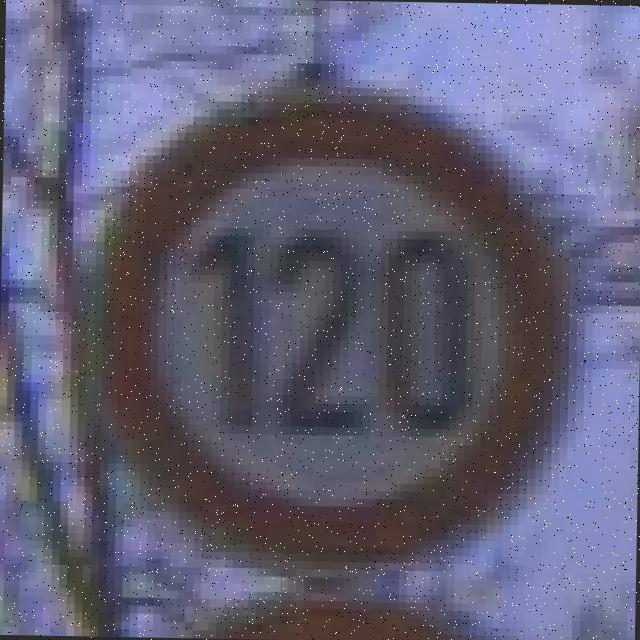Ograniczenie predkosci do 120: (58, 58, 590, 590)
